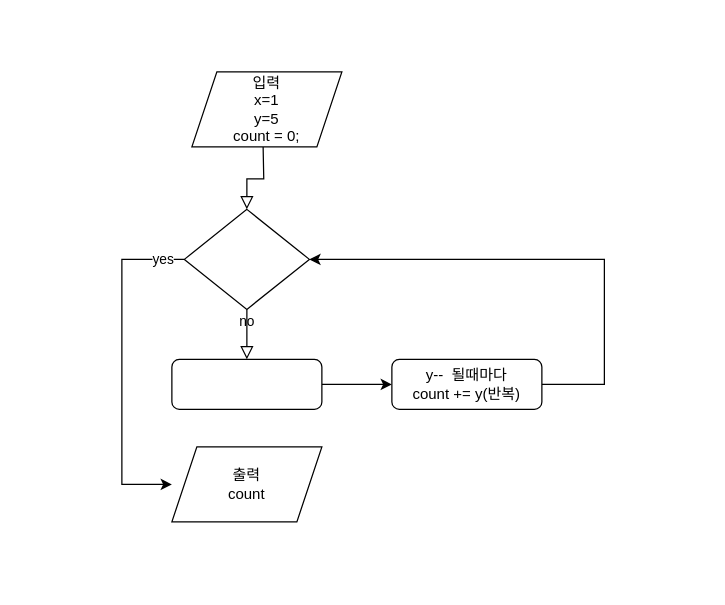
Image size: 725x605. Some labels were removed from this diagram. The centre of each missing label's shape, as x and y in pixels:
y < x: the point at 246,258
y-- (반복): the point at 246,383
